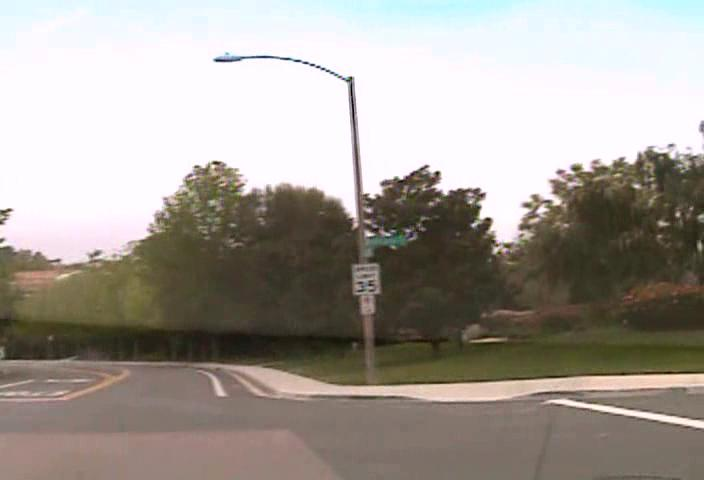speedLimit35: (351, 262, 381, 296)
